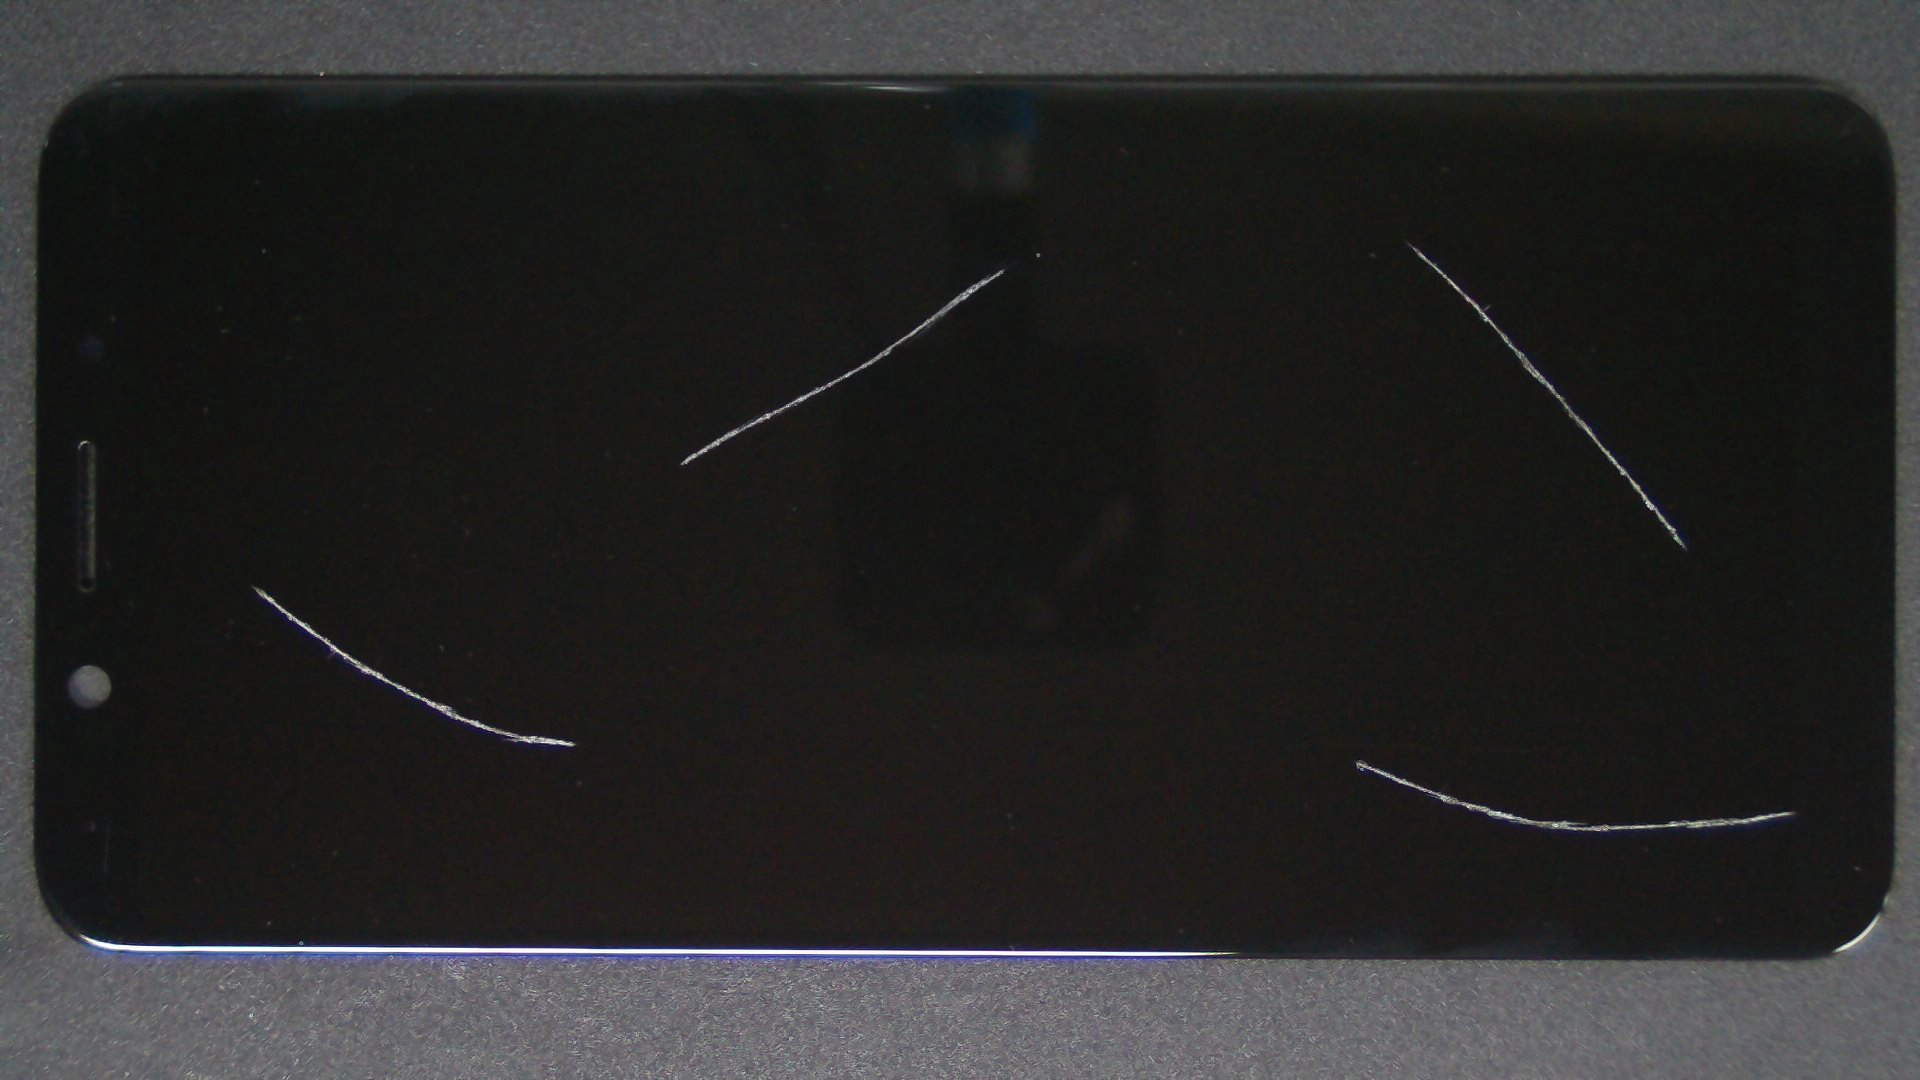oil: (679, 380, 1920, 1080), (702, 120, 1920, 364), (502, 133, 1506, 402), (125, 291, 377, 877)
